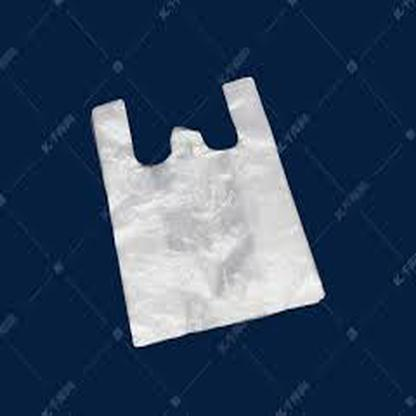plastic bag: (91, 78, 326, 348)
